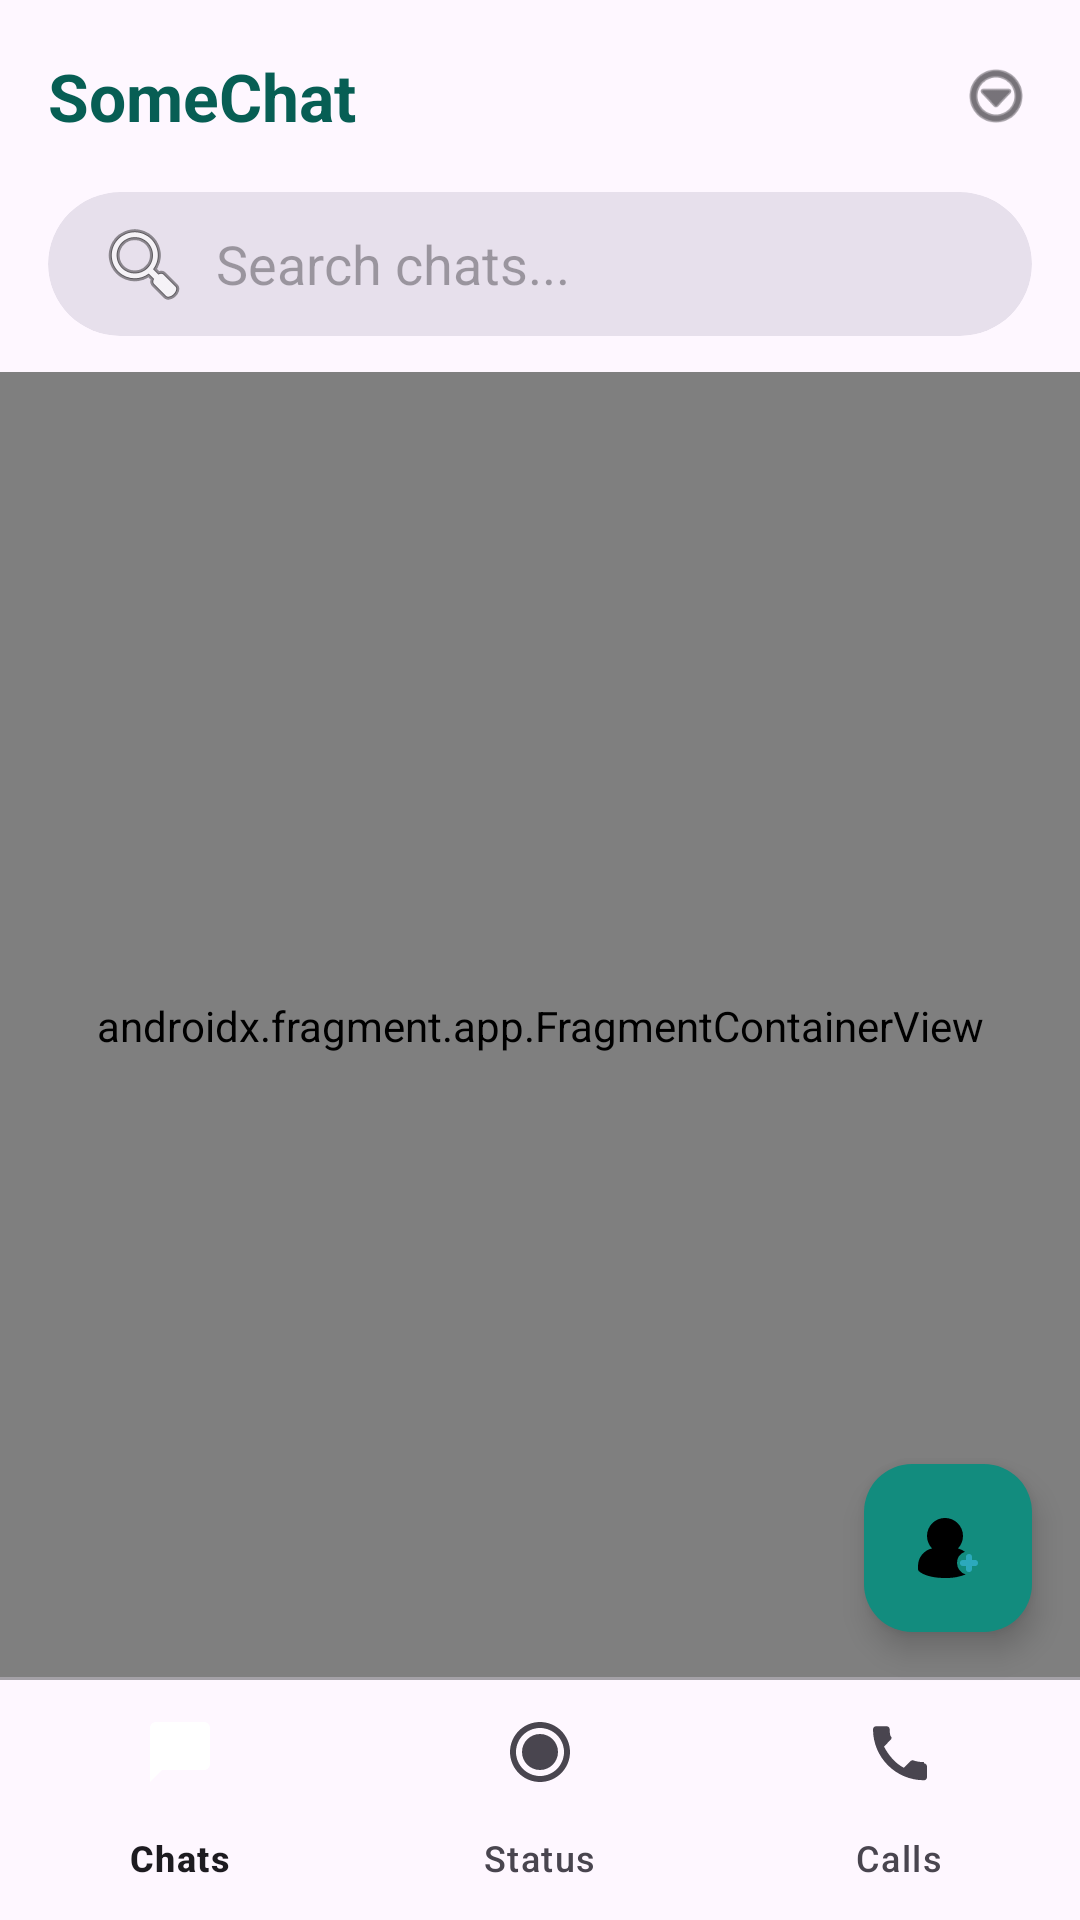

Screen size 1080 × 1920. Icon name, then its box in pixels as (x1, y1, x2, y2):
More options: (969, 69, 1023, 123)
